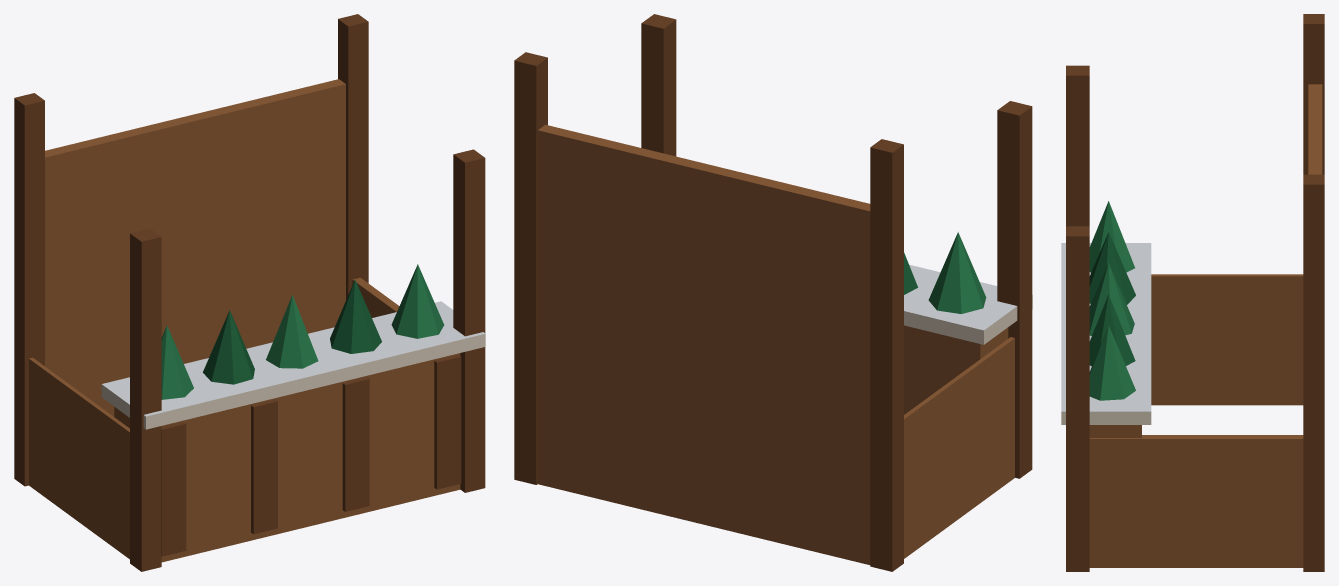
File: Stall_Green_Stall.glb
3 views of the same model, side by side, from view 1: azimuth 30°, elevation 25°; view 2: azimuth 150°, elevation 25°; view 3: azimuth 270°, elevation 25° (orthographic). The views are drawn at different scales.
Visible parts, largest first — view 1: Stall_Green_Stall; view 2: Stall_Green_Stall; view 3: Stall_Green_Stall.
Boxes of the visible parts, x1,y1,x2,y2 form: Stall_Green_Stall: (14,14,485,571); Stall_Green_Stall: (514,14,1032,571); Stall_Green_Stall: (1061,14,1324,571).
Bounding box in the file's own units: 8.5 × 9 × 5.55.
